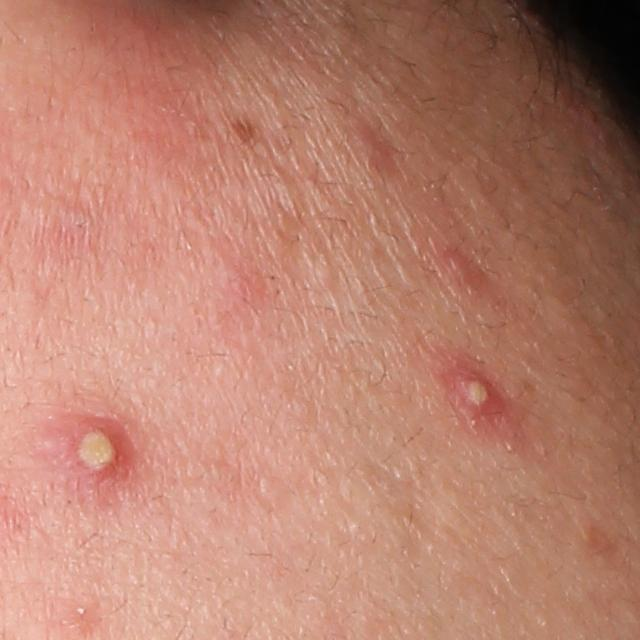nevus: (226, 105, 264, 151)
papule: (342, 116, 396, 170), (438, 242, 477, 292)
pustule: (36, 404, 135, 496), (438, 361, 504, 423)
